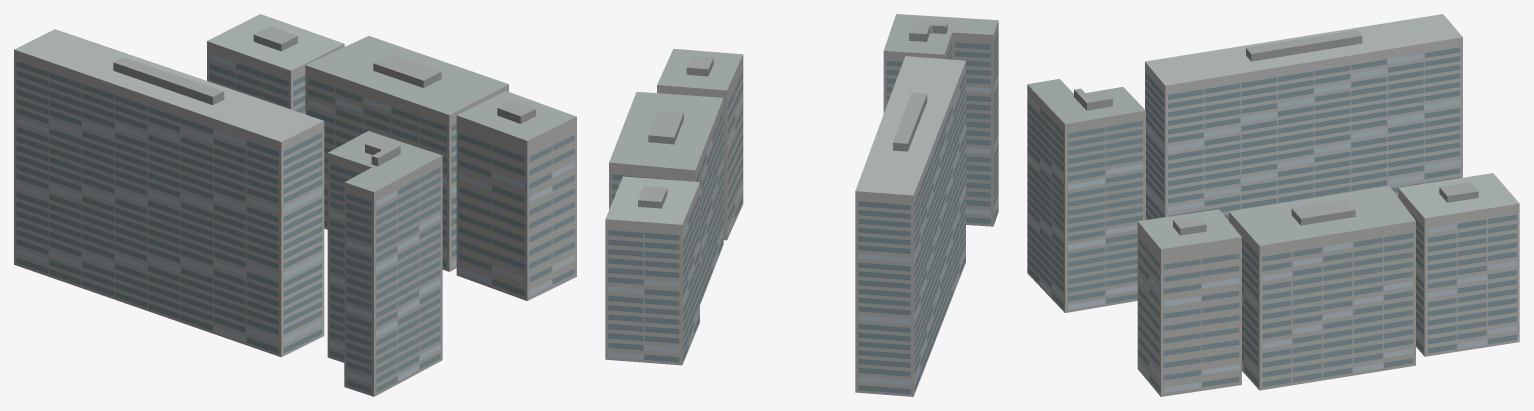
File: apt-a13785705.glb
3 renders of one model, left to right at view 1: azimuth 30°, elevation 25°; view 2: azimuth 150°, elevation 25°; view 3: azimuth 270°, elevation 25°, orthographic. The views are drawn at different scales.
Parts seen in each view (by area): view 1: apt-a13785705; view 2: apt-a13785705; view 3: apt-a13785705.
Boxes of the visible parts, left/top/right/bottom form: apt-a13785705: left=14, top=14, right=576, bottom=396; apt-a13785705: left=605, top=14, right=998, bottom=396; apt-a13785705: left=1027, top=14, right=1519, bottom=396.
Size of the model in its own units: 123 by 64 by 138.
